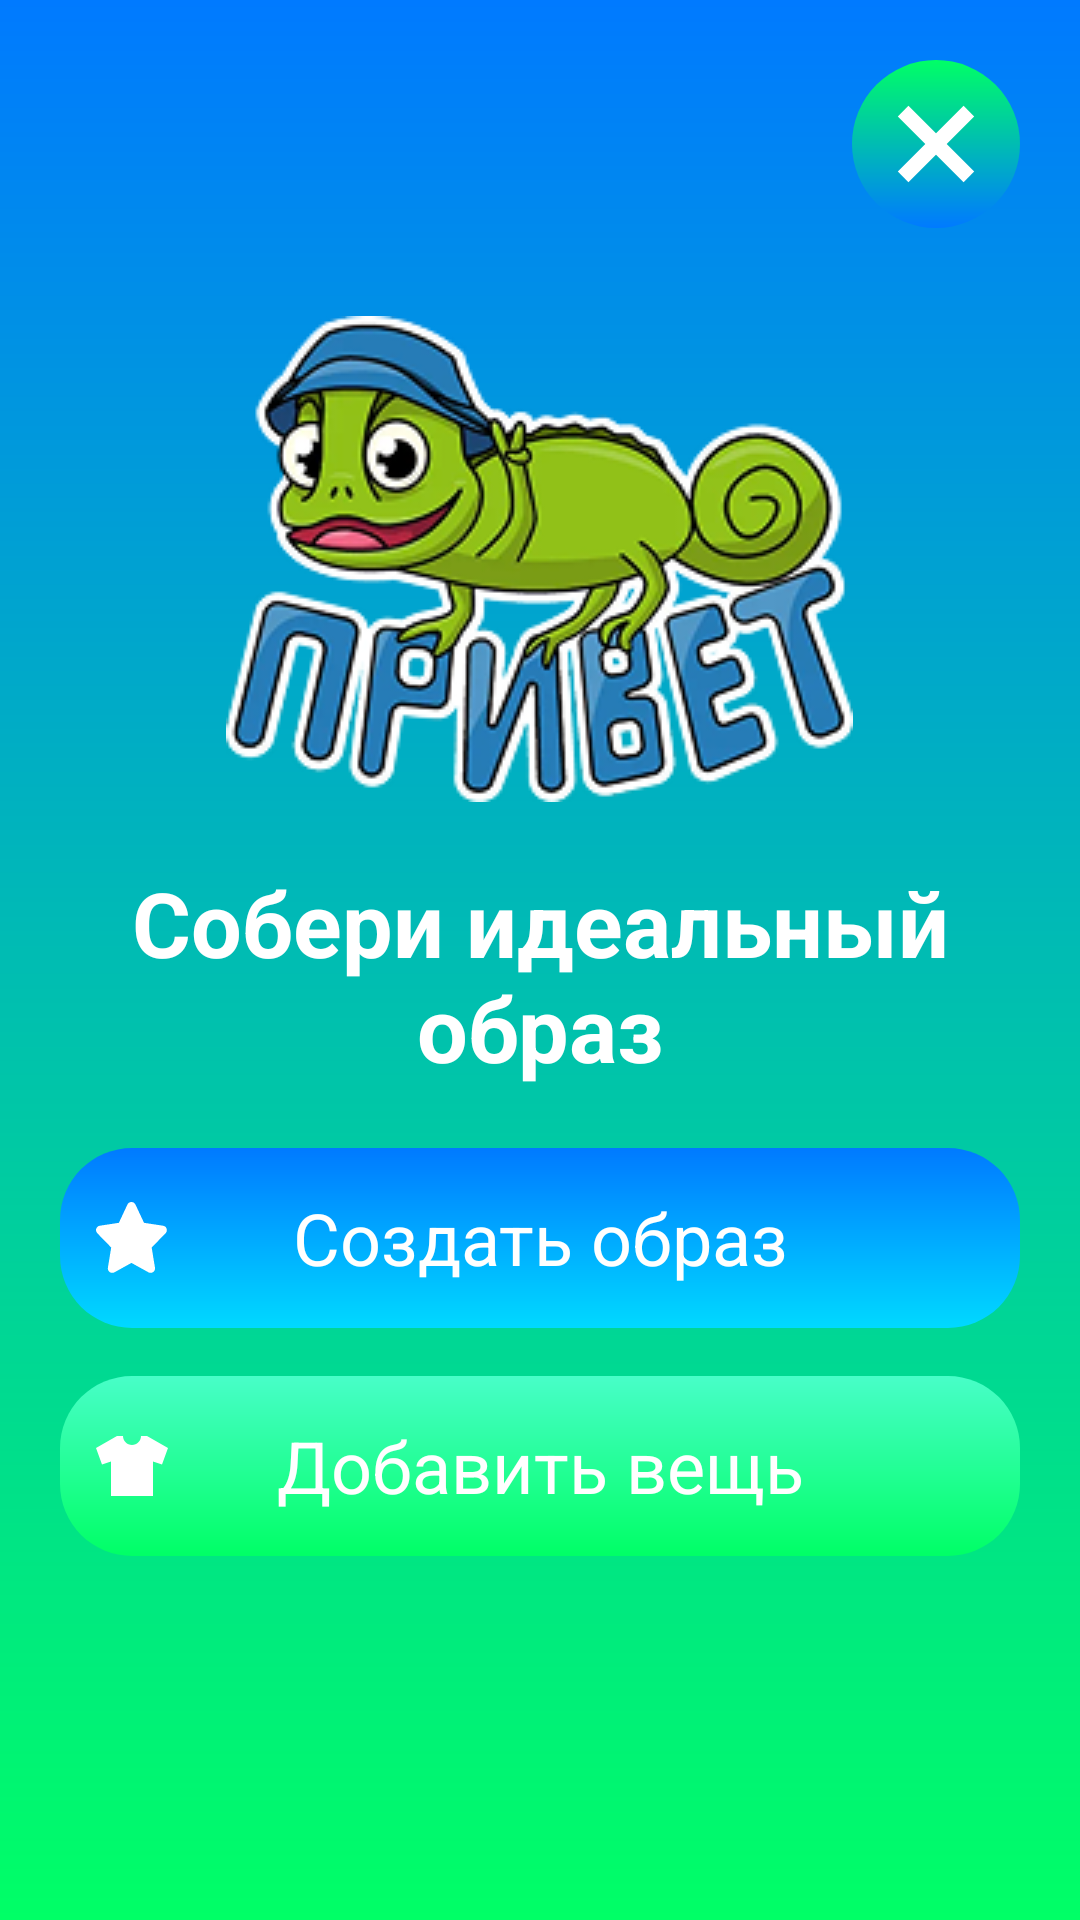

Where to tap for icons on this 1080 x 1920 app screen, as (x=x, y=y):
fab exit: (x=936, y=121)
shirt: (x=132, y=1466)
star: (x=132, y=1238)
